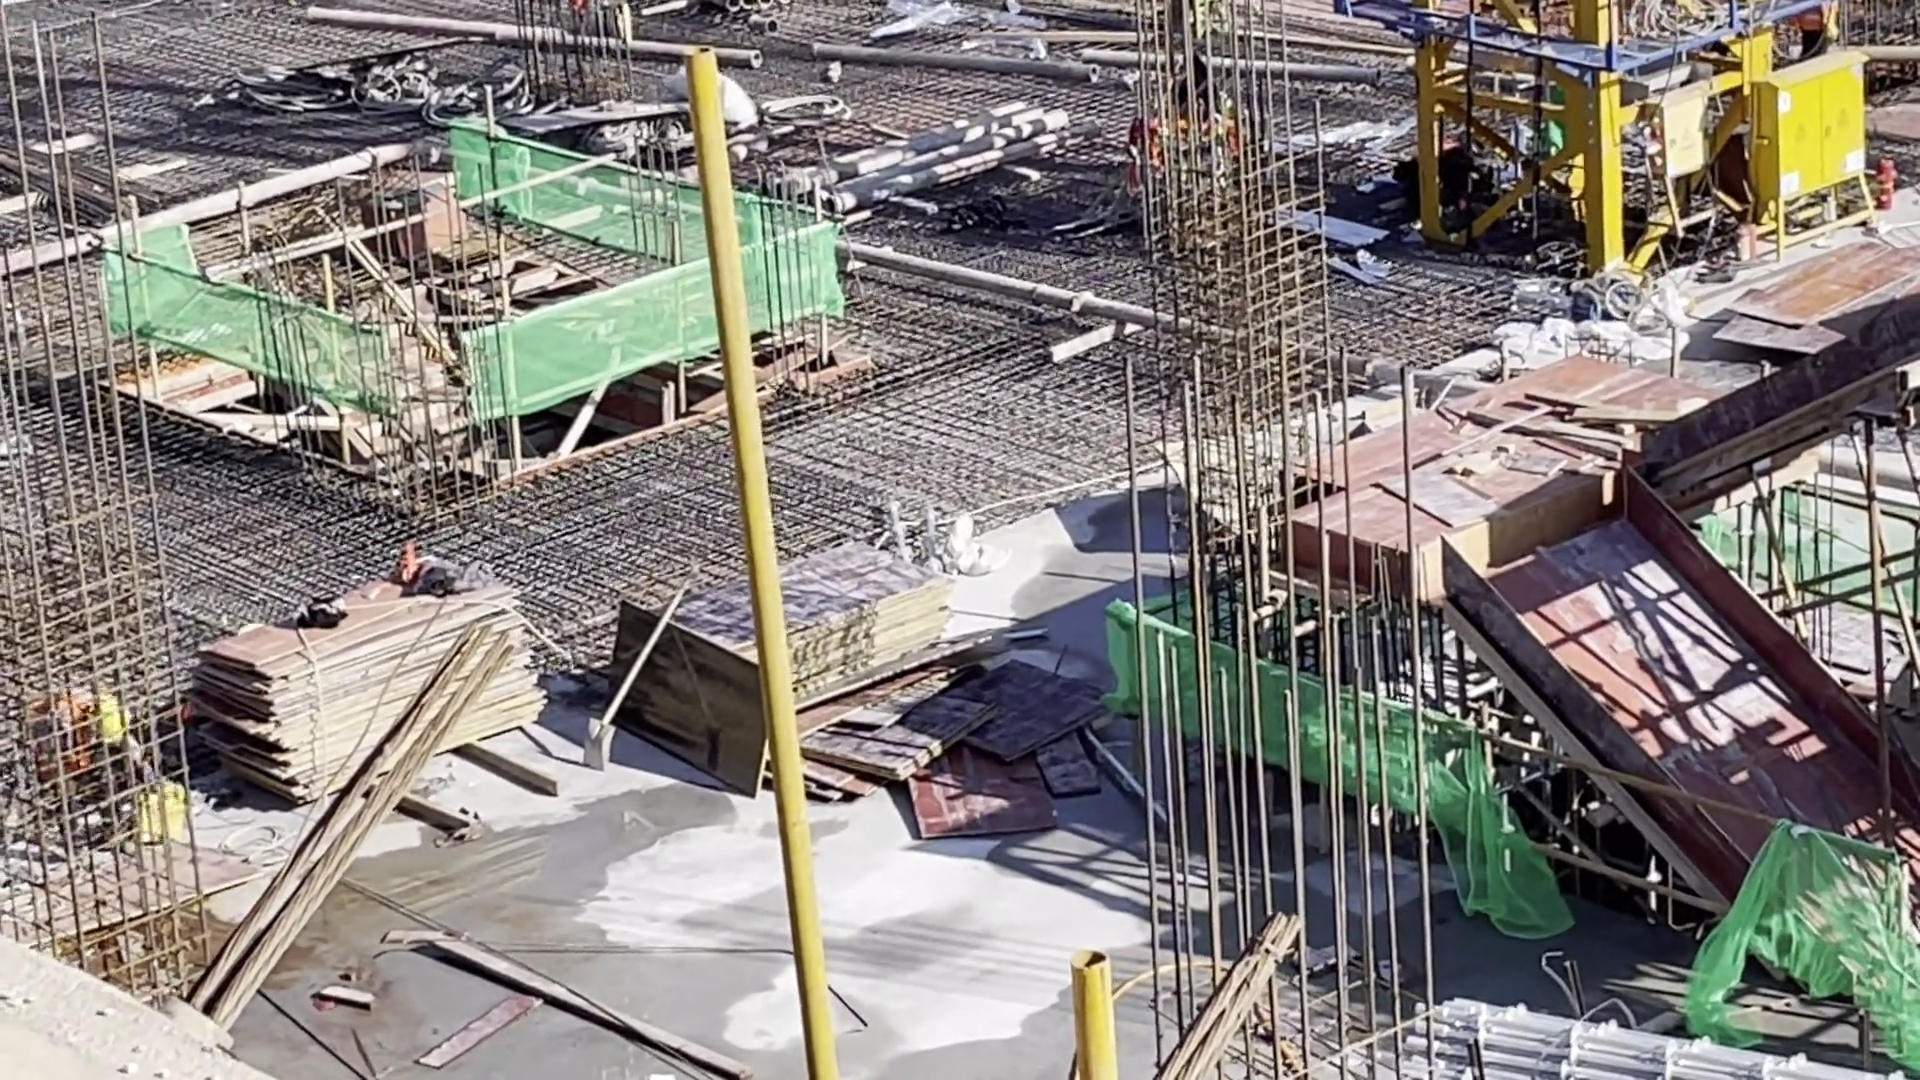board: (204, 560, 537, 803), (642, 541, 953, 735)
ebox: (1747, 45, 1892, 260), (1636, 82, 1731, 241)
handcart: (289, 42, 446, 109)
